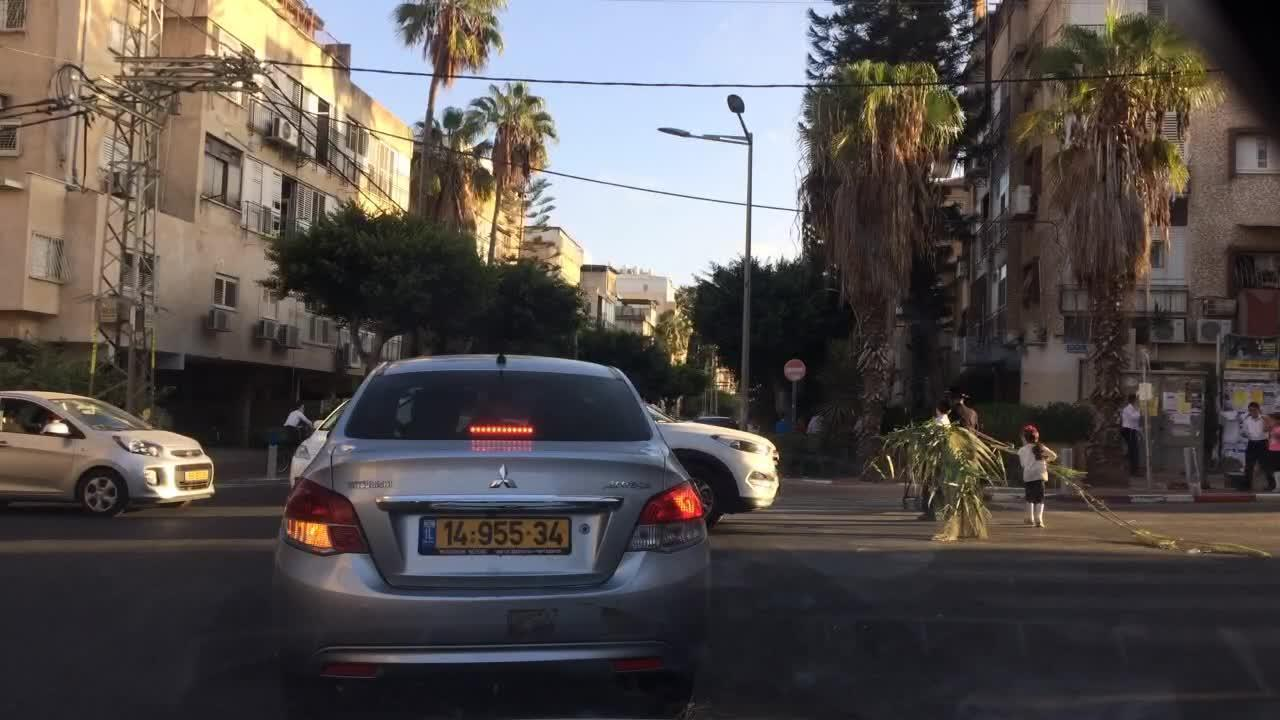Mitsubishi: (477, 458, 524, 493)
